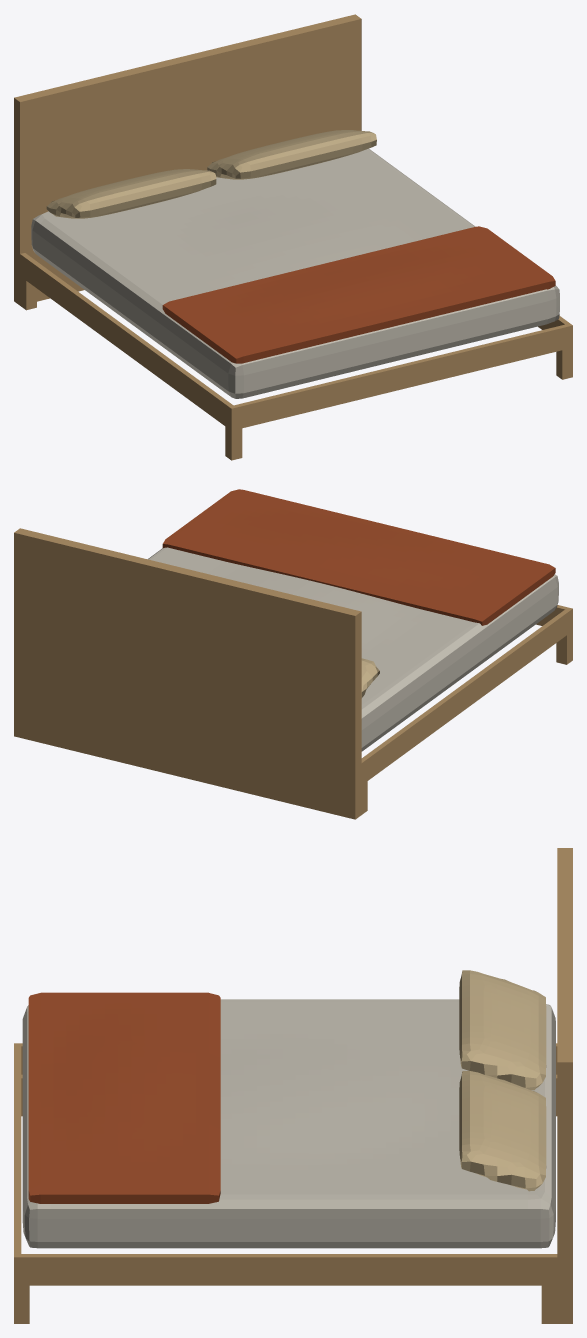
The model's file is SAB-BED-king.glb.
3 renders of one model, top to bottom at view 1: azimuth 30°, elevation 25°; view 2: azimuth 150°, elevation 25°; view 3: azimuth 270°, elevation 25°, orthographic. The views are drawn at different scales.
Visible parts, largest first — view 1: mattress:pbr, head:pbr, throw:pbr, foot:pbr, rail-l:pbr, pillow-l:pbr, pillow-r:pbr; view 2: head:pbr, throw:pbr, mattress:pbr, rail-l:pbr, pillow-l:pbr, leg-fl:pbr; view 3: mattress:pbr, throw:pbr, rail-r:pbr, pillow-r:pbr, pillow-l:pbr, head:pbr, foot:pbr, leg-hr:pbr, leg-fr:pbr.
Part boxes in pixels (bbox=[...]): mattress:pbr: bbox=[31, 148, 559, 398]; head:pbr: bbox=[14, 14, 361, 305]; throw:pbr: bbox=[162, 226, 555, 363]; foot:pbr: bbox=[234, 324, 567, 429]; rail-l:pbr: bbox=[20, 253, 236, 430]; pillow-l:pbr: bbox=[46, 169, 216, 218]; pillow-r:pbr: bbox=[207, 130, 376, 179]; head:pbr: bbox=[14, 528, 361, 819]; throw:pbr: bbox=[162, 489, 555, 625]; mattress:pbr: bbox=[148, 547, 558, 751]; rail-l:pbr: bbox=[361, 607, 572, 784]; pillow-l:pbr: bbox=[361, 658, 379, 697]; leg-fl:pbr: bbox=[556, 631, 572, 664]; mattress:pbr: bbox=[22, 999, 555, 1248]; throw:pbr: bbox=[28, 992, 220, 1203]; rail-r:pbr: bbox=[14, 1254, 557, 1285]; pillow-r:pbr: bbox=[459, 1071, 546, 1191]; pillow-l:pbr: bbox=[459, 970, 546, 1090]; head:pbr: bbox=[557, 848, 572, 1323]; foot:pbr: bbox=[14, 1046, 21, 1253]; leg-hr:pbr: bbox=[541, 1285, 557, 1323]; leg-fr:pbr: bbox=[14, 1285, 29, 1323].
Size of the model in its own units: 1.93 by 1.1 by 2.13.
